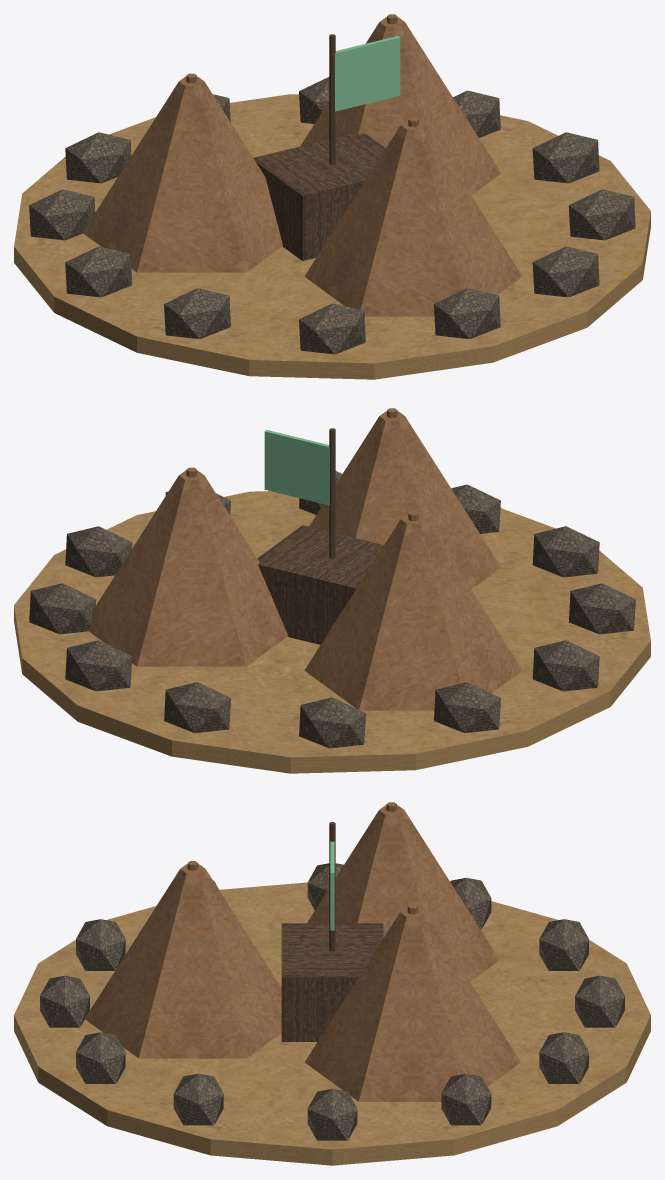
Rendered from edificio-b_005-e0-CV877qLG.glb.
3 renders of one model, top to bottom at view 1: azimuth 30°, elevation 25°; view 2: azimuth 150°, elevation 25°; view 3: azimuth 270°, elevation 25°, orthographic.
Visible parts, largest first — view 1: edificio-b_005-e0_envolvente, edificio-b_005-e0_detalles, edificio-b_005-e0_team_color; view 2: edificio-b_005-e0_envolvente, edificio-b_005-e0_detalles, edificio-b_005-e0_team_color; view 3: edificio-b_005-e0_envolvente, edificio-b_005-e0_detalles.
Part boxes in pixels (x1,y1,x2,y2): edificio-b_005-e0_envolvente: (14, 17, 650, 379); edificio-b_005-e0_detalles: (29, 14, 635, 354); edificio-b_005-e0_team_color: (335, 36, 400, 111); edificio-b_005-e0_envolvente: (14, 411, 650, 773); edificio-b_005-e0_detalles: (29, 408, 635, 748); edificio-b_005-e0_team_color: (264, 430, 329, 505); edificio-b_005-e0_envolvente: (14, 805, 650, 1165); edificio-b_005-e0_detalles: (40, 802, 624, 1140).
Bounding box in the file's own units: 50 × 18 × 50.
3 materials, 2 textured.
